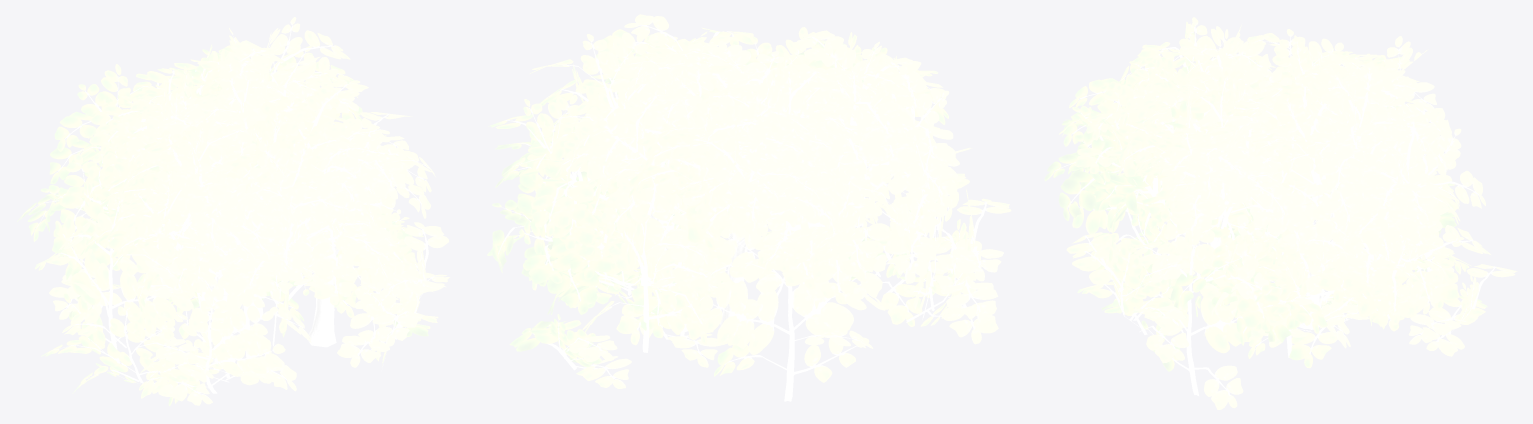
3 views of the same model, side by side, from view 1: azimuth 30°, elevation 25°; view 2: azimuth 150°, elevation 25°; view 3: azimuth 270°, elevation 25° (orthographic). The views are drawn at different scales.
Visible parts, largest first — view 1: SM_BM_Medium_Bush_Meadows_C_LOD0; view 2: SM_BM_Medium_Bush_Meadows_C_LOD0; view 3: SM_BM_Medium_Bush_Meadows_C_LOD0.
Part boxes in pixels (<box>): SM_BM_Medium_Bush_Meadows_C_LOD0: <box>17,17,449,406</box>; SM_BM_Medium_Bush_Meadows_C_LOD0: <box>487,14,1011,401</box>; SM_BM_Medium_Bush_Meadows_C_LOD0: <box>1044,17,1517,409</box>.
Size of the model in its own units: 1.68 by 1.3 by 1.77.
1 material, 1 textured.
